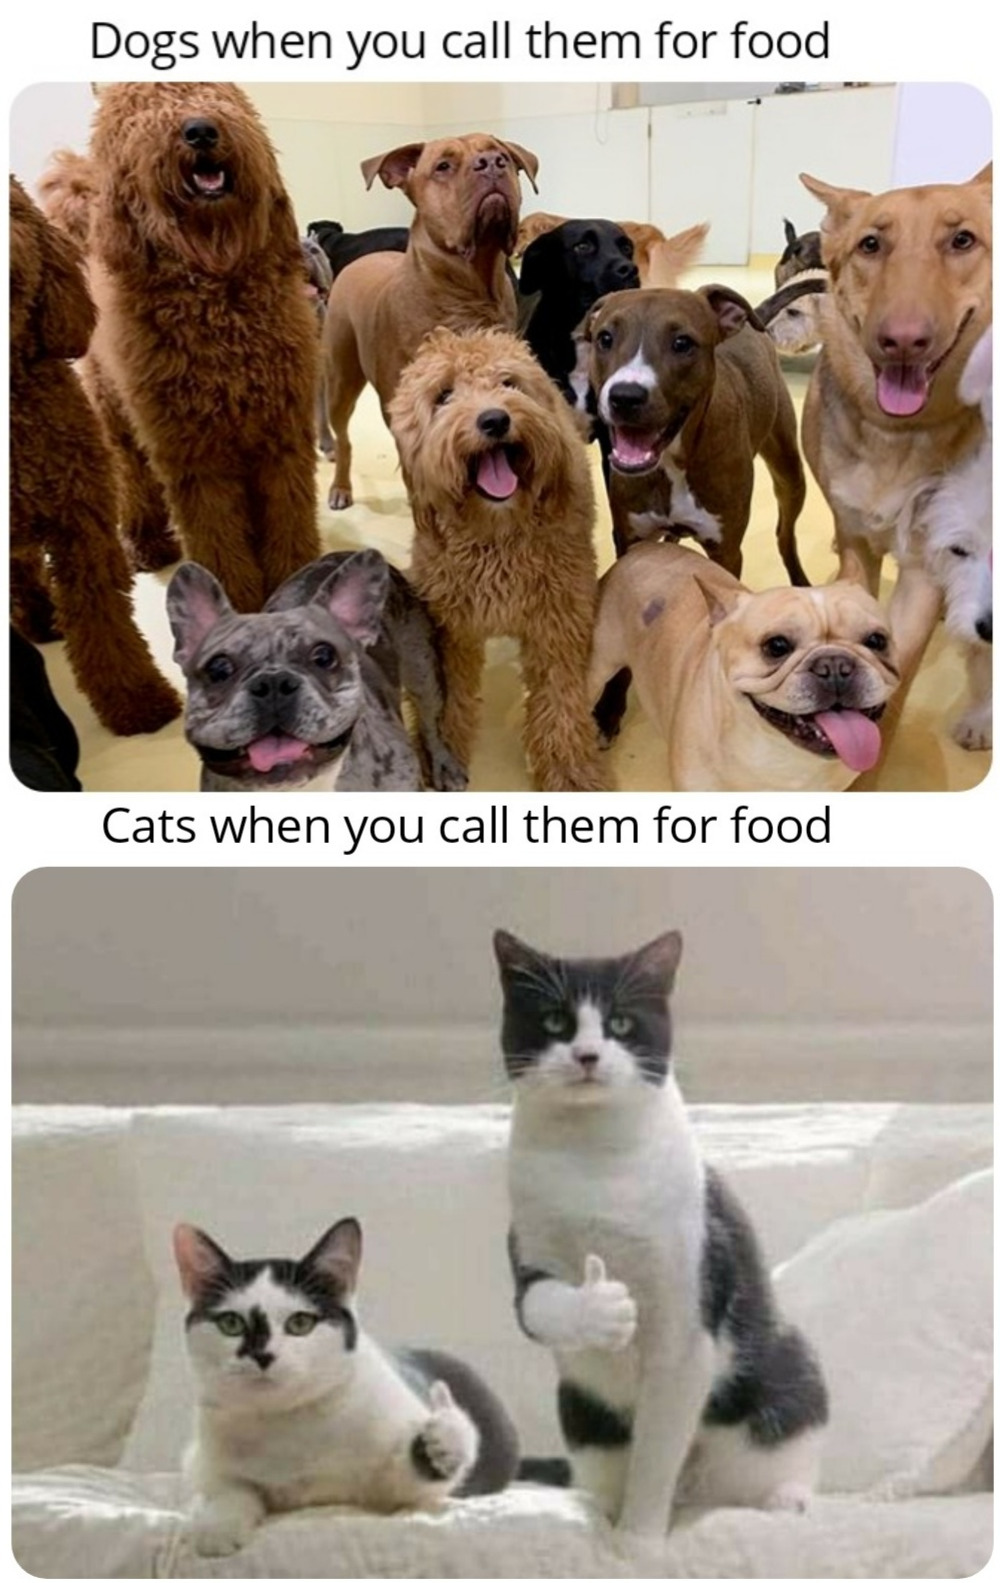cat: (485, 925, 825, 1530), (172, 1215, 523, 1554)
dog: (94, 83, 325, 580), (1, 171, 174, 772), (389, 330, 598, 774), (585, 523, 906, 803), (794, 159, 994, 545), (576, 277, 815, 580), (162, 543, 445, 785), (312, 134, 545, 361), (914, 456, 1000, 767), (516, 210, 645, 363)
